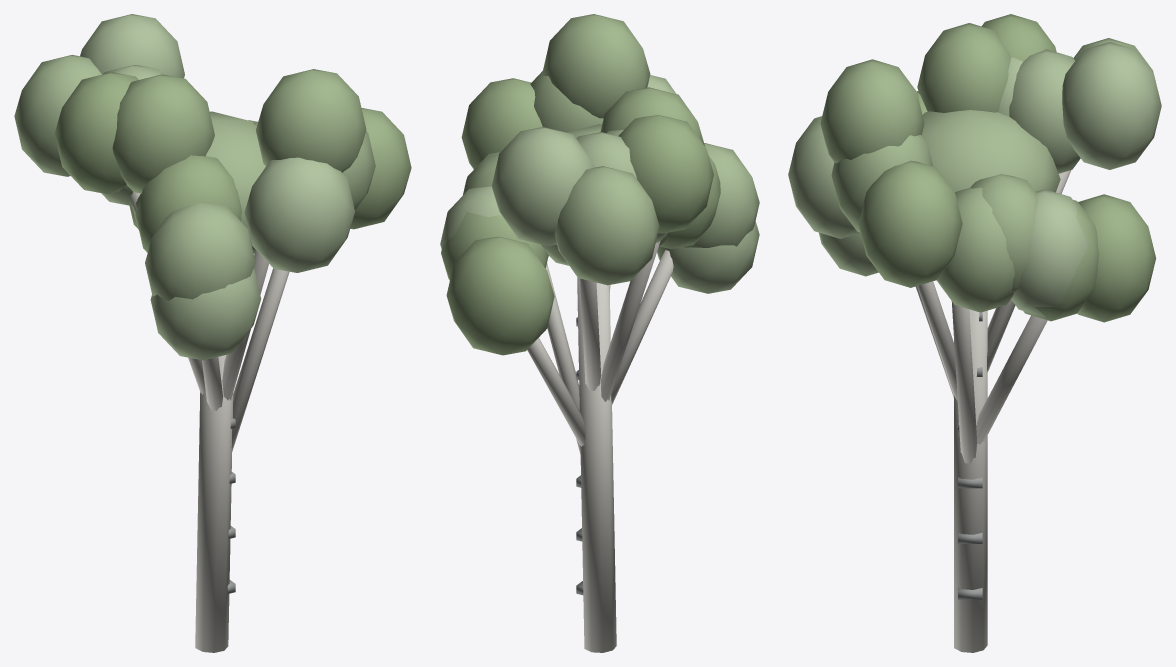
Rendered from birch.glb.
The picture shows the model from 3 angles, left to right: view 1: azimuth 30°, elevation 25°; view 2: azimuth 150°, elevation 25°; view 3: azimuth 270°, elevation 25°; orthographic projection. The views are drawn at different scales.
Parts seen in each view (by area): view 1: birch; view 2: birch; view 3: birch.
Part boxes in pixels (x1,y1,x2,y2): birch: [14, 14, 411, 652]; birch: [440, 14, 759, 652]; birch: [788, 14, 1161, 652].
Size of the model in its own units: 4.8 by 9.28 by 5.17.
